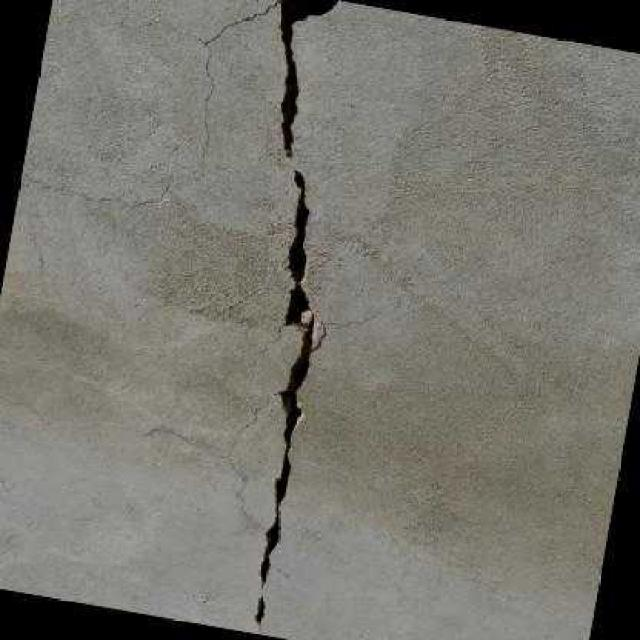D00: (253, 0, 338, 634)
